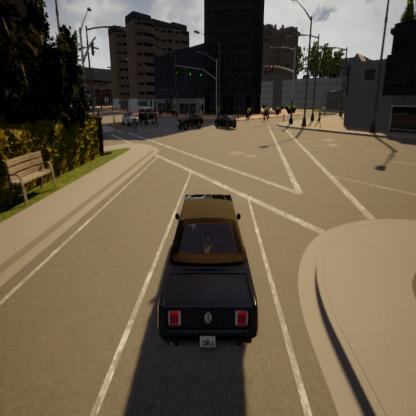Cars: (151, 169, 263, 365), (175, 109, 205, 136), (137, 102, 156, 128), (214, 114, 238, 130), (120, 106, 136, 127)
Pedestrian: (246, 107, 254, 133), (109, 109, 116, 134), (317, 107, 323, 132), (282, 102, 288, 124), (266, 109, 270, 131), (262, 107, 266, 128)
